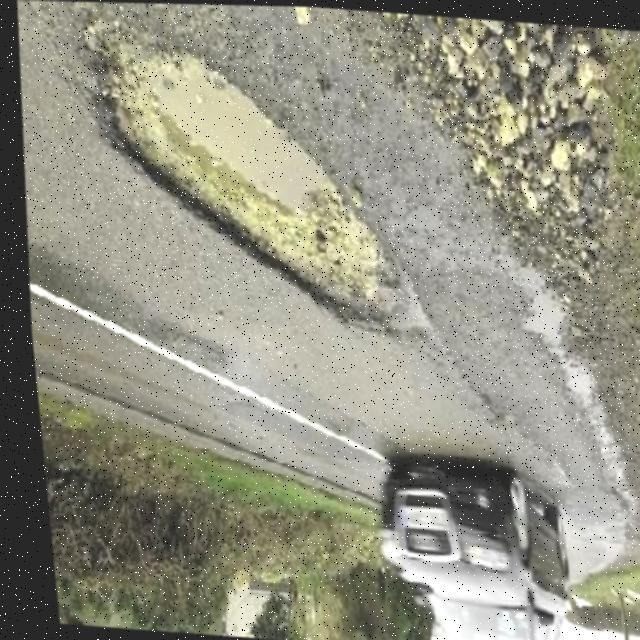pothole: (70, 21, 442, 342)
